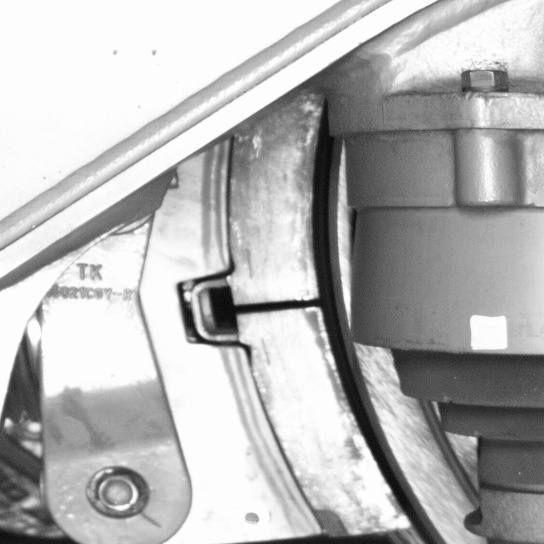KnifeSwitch: (239, 129, 449, 541)
